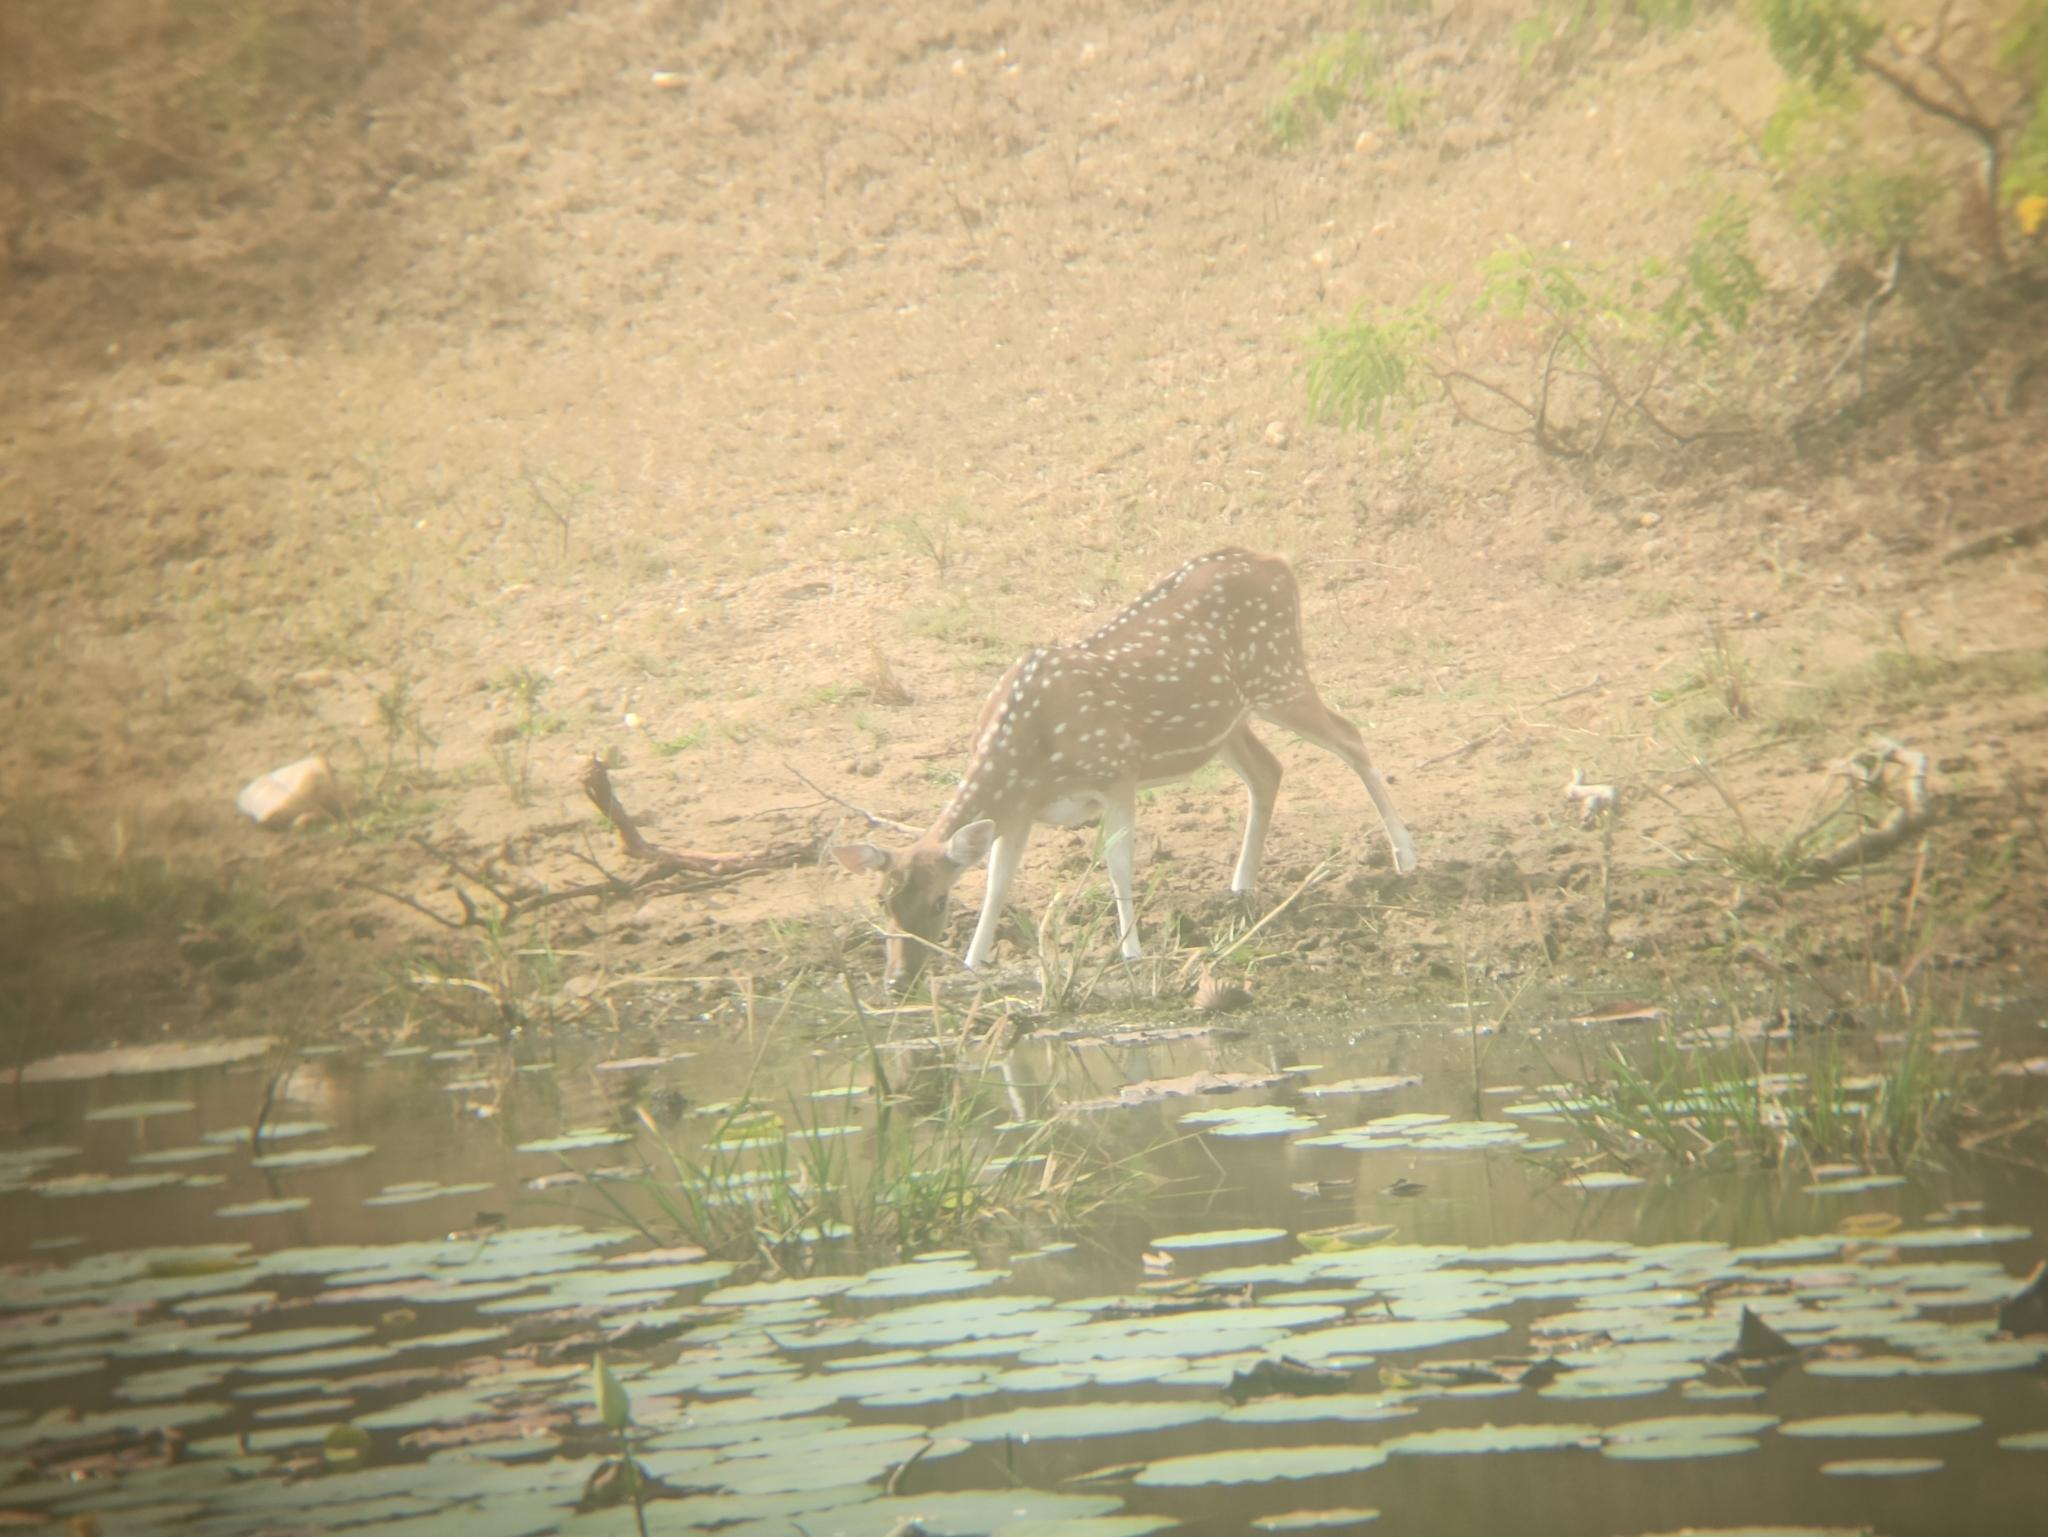Deer: (830, 549, 1415, 988)
